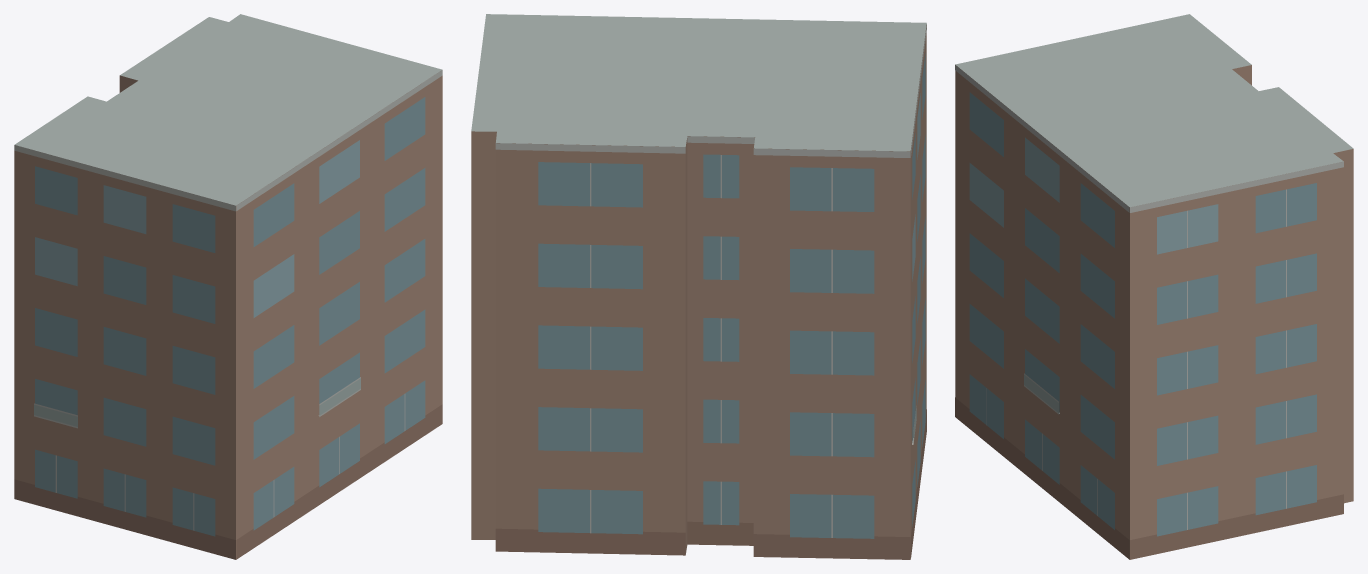
The model's file is survey-upis-33004057.glb.
3 renders of one model, left to right at view 1: azimuth 30°, elevation 25°; view 2: azimuth 150°, elevation 25°; view 3: azimuth 270°, elevation 25°, orthographic. The views are drawn at different scales.
Parts seen in each view (by area): view 1: survey-upis-33004057.tmp; view 2: survey-upis-33004057.tmp; view 3: survey-upis-33004057.tmp.
Part boxes in pixels (bbox=[...]): survey-upis-33004057.tmp: bbox=[14, 14, 442, 559]; survey-upis-33004057.tmp: bbox=[471, 14, 926, 559]; survey-upis-33004057.tmp: bbox=[955, 14, 1353, 559].
Size of the model in its own units: 17.54 by 14.9 by 15.28.
